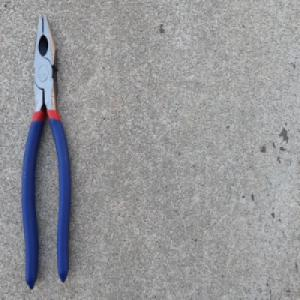Pliers: (20, 10, 71, 291)
